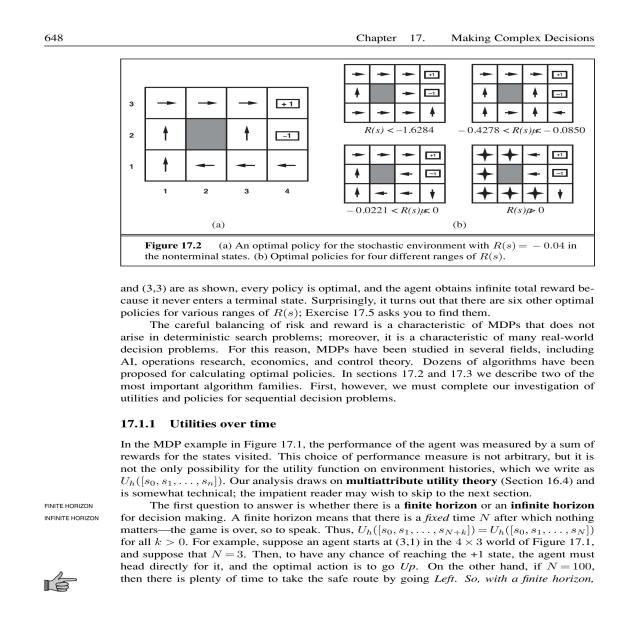diagram: (121, 54, 607, 280)
